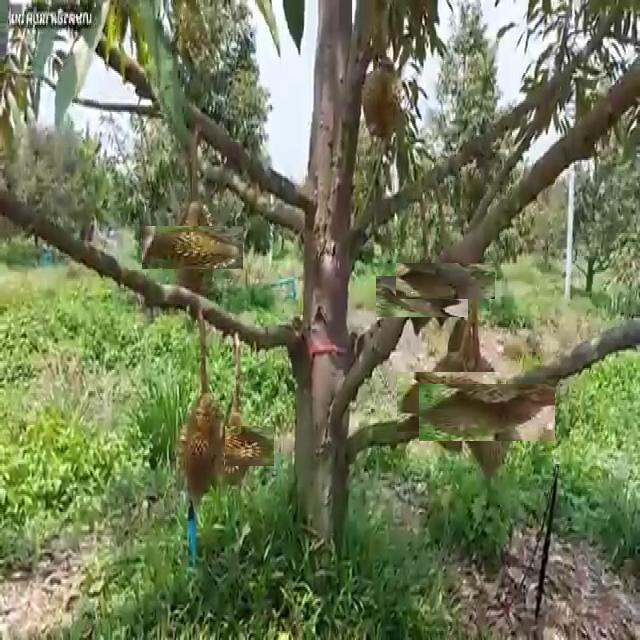durian: (438, 363, 536, 461), (409, 359, 494, 444), (175, 386, 225, 498), (156, 211, 228, 284), (411, 246, 480, 315), (389, 263, 456, 330), (359, 58, 404, 143), (205, 416, 265, 476)
